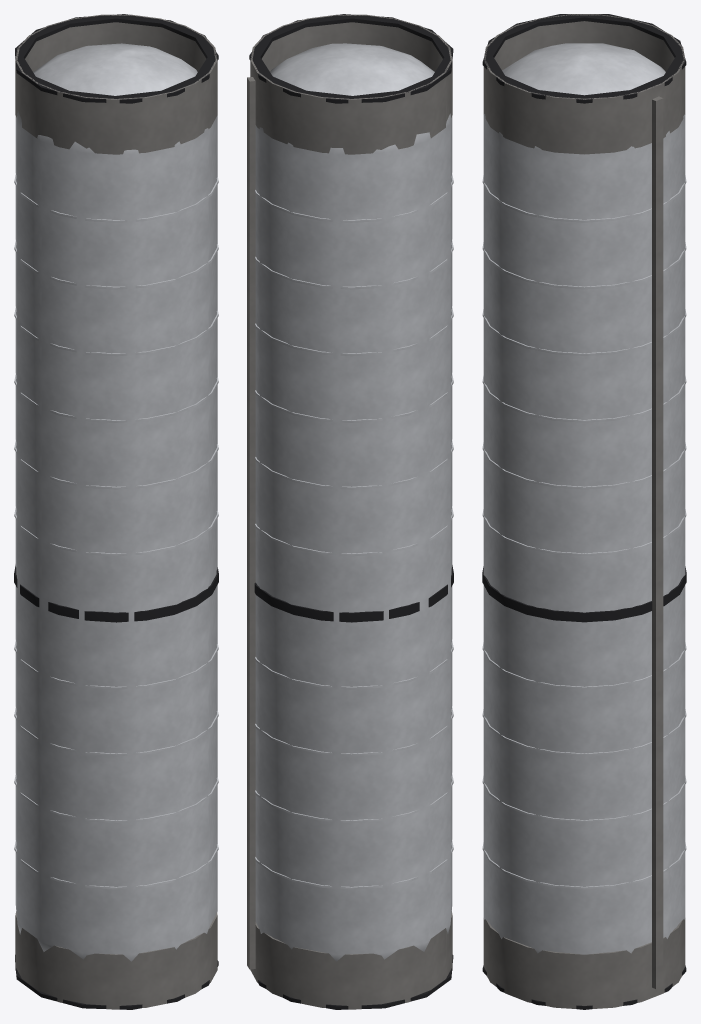
Rendered from tank01_methalox_xl.glb.
The picture shows the model from 3 angles, left to right: view 1: azimuth 30°, elevation 25°; view 2: azimuth 150°, elevation 25°; view 3: azimuth 270°, elevation 25°; orthographic projection.
Parts seen in each view (by area): view 1: tank, skirts, ring_frames, stack_flanges, bulkhead_band; view 2: tank, skirts, raceway, ring_frames, stack_flanges, bulkhead_band; view 3: tank, skirts, raceway, ring_frames, stack_flanges, bulkhead_band.
Part boxes in pixels (left/top/right/bottom): tank: left=15, top=43, right=217, bottom=961; skirts: left=15, top=14, right=217, bottom=1009; ring_frames: left=14, top=173, right=218, bottom=889; stack_flanges: left=15, top=14, right=218, bottom=1009; bulkhead_band: left=14, top=564, right=218, bottom=622; tank: left=255, top=43, right=452, bottom=961; skirts: left=250, top=14, right=452, bottom=1009; raceway: left=247, top=77, right=255, bottom=969; ring_frames: left=255, top=173, right=453, bottom=889; stack_flanges: left=249, top=14, right=453, bottom=1009; bulkhead_band: left=254, top=564, right=453, bottom=622; tank: left=483, top=43, right=685, bottom=954; skirts: left=483, top=14, right=685, bottom=1008; raceway: left=652, top=96, right=663, bottom=989; ring_frames: left=482, top=175, right=686, bottom=889; stack_flanges: left=482, top=14, right=686, bottom=1009; bulkhead_band: left=482, top=566, right=686, bottom=622.
Bounding box in the file's own units: 5.06 × 24.87 × 5.06.
Materials: 3 (2 with a texture image).
